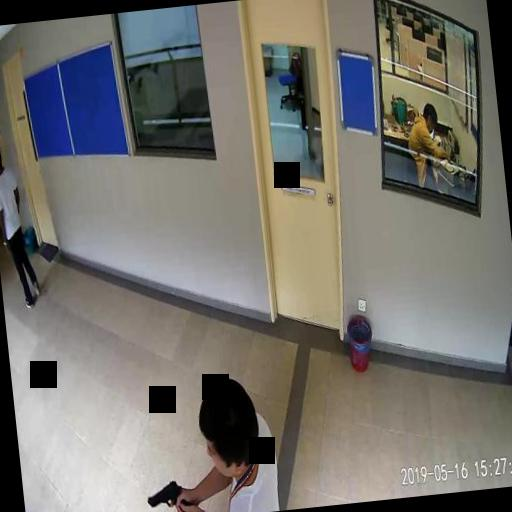Handgun: (144, 477, 188, 512)
